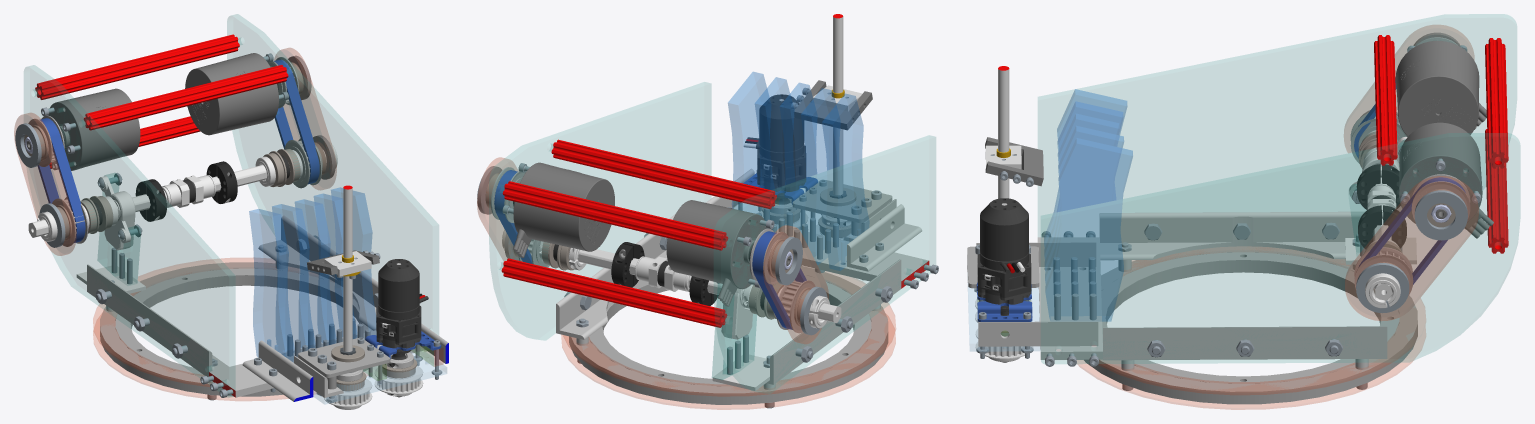
3 renders of one model, left to right at view 1: azimuth 30°, elevation 25°; view 2: azimuth 150°, elevation 25°; view 3: azimuth 270°, elevation 25°, orthographic. The views are drawn at different scales.
Visible parts, largest first — view 1: Simplified HM side plate (×2), Basic NEO motor (×2), 7.625" churro (×3), bearing lock plate (×2), inner ring, Lower finger 1, Lower finger 2, Lower finger 3, Outer ring, Drive belts 48 t (×2), side plate mount <1>, Lower finger 5 (+28 smaller); view 2: Simplified HM side plate (×2), 7.625" churro (×3), Basic NEO motor (×2), Outer ring, belt retention ring (×2), Lower finger 1, bearing lock plate (×2), Lower finger 2, Lower finger 5, Lower finger 4, Lower finger 3, inner ring (+24 smaller); view 3: Simplified HM side plate (×2), Basic NEO motor (×2), Lower finger 5, side plate mount <1>, Outer ring, bearing lock plate (×2), side plate mount <2>, inner ring, 7.625" churro (×3), belt retention ring (×2), Lower finger 4, pivot assembly mounting plate (+21 smaller).
Part boxes in pixels (bbox=[...]): Simplified HM side plate (×2): bbox=[24, 14, 438, 397]; Basic NEO motor (×2): bbox=[26, 53, 278, 170]; 7.625" churro (×3): bbox=[35, 34, 288, 168]; bearing lock plate (×2): bbox=[14, 48, 336, 255]; inner ring: bbox=[115, 268, 372, 376]; Lower finger 1: bbox=[249, 209, 294, 362]; Lower finger 2: bbox=[272, 204, 315, 361]; Lower finger 3: bbox=[295, 199, 336, 347]; Outer ring: bbox=[100, 262, 368, 396]; Drive belts 48 t (×2): bbox=[37, 59, 319, 242]; side plate mount <1>: bbox=[87, 264, 228, 376]; Lower finger 5: bbox=[331, 187, 376, 339]; Simplified HM side plate (×2): bbox=[489, 82, 935, 393]; 7.625" churro (×3): bbox=[501, 139, 776, 327]; Basic NEO motor (×2): bbox=[513, 162, 790, 306]; Outer ring: bbox=[569, 266, 888, 404]; belt retention ring (×2): bbox=[561, 271, 895, 409]; Lower finger 1: bbox=[822, 93, 869, 270]; bearing lock plate (×2): bbox=[477, 157, 828, 343]; Lower finger 2: bbox=[801, 88, 840, 264]; Lower finger 5: bbox=[728, 72, 774, 213]; Lower finger 4: bbox=[755, 77, 795, 231]; Lower finger 3: bbox=[780, 83, 817, 235]; inner ring: bbox=[588, 274, 871, 386]; Simplified HM side plate (×2): bbox=[1038, 14, 1520, 363]; Basic NEO motor (×2): bbox=[1395, 40, 1493, 238]; Lower finger 5: bbox=[1045, 138, 1132, 321]; side plate mount <1>: bbox=[1099, 211, 1364, 260]; Outer ring: bbox=[1084, 246, 1417, 404]; bearing lock plate (×2): bbox=[1344, 25, 1478, 320]; side plate mount <2>: bbox=[1102, 326, 1387, 360]; inner ring: bbox=[1101, 252, 1399, 383]; 7.625" churro (×3): bbox=[1374, 35, 1508, 253]; belt retention ring (×2): bbox=[1077, 247, 1425, 409]; Lower finger 4: bbox=[1045, 126, 1123, 282]; pivot assembly mounting plate: bbox=[1037, 237, 1102, 359].
Bounding box in the file's own units: 0.2942 × 0.2135 × 0.3955.
